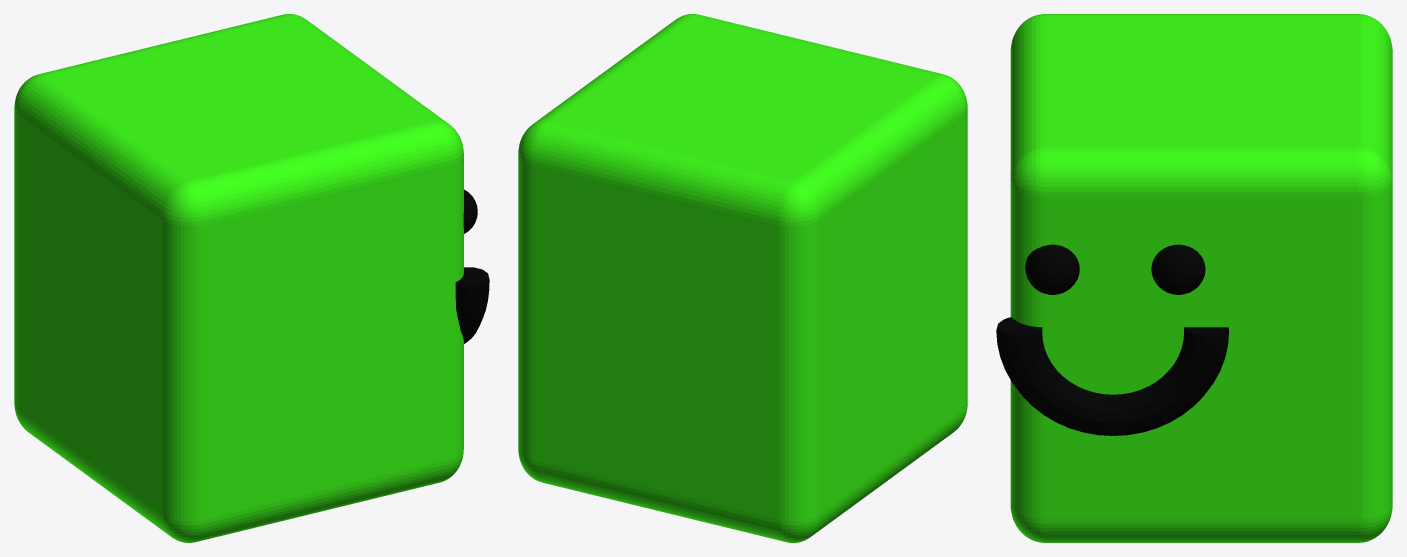
Rendered from Chracter_LimeGreen.glb.
3 renders of one model, left to right at view 1: azimuth 30°, elevation 25°; view 2: azimuth 150°, elevation 25°; view 3: azimuth 270°, elevation 25°, orthographic. The views are drawn at different scales.
Visible parts, largest first — view 1: Chracter_LimeGreen; view 2: Chracter_LimeGreen; view 3: Chracter_LimeGreen.
Boxes of the visible parts, x1=… form: Chracter_LimeGreen: x1=14, y1=14, x2=489, y2=542; Chracter_LimeGreen: x1=518, y1=14, x2=967, y2=542; Chracter_LimeGreen: x1=996, y1=14, x2=1392, y2=542.
Bounding box in the file's own units: 1.84 × 2 × 1.83.
